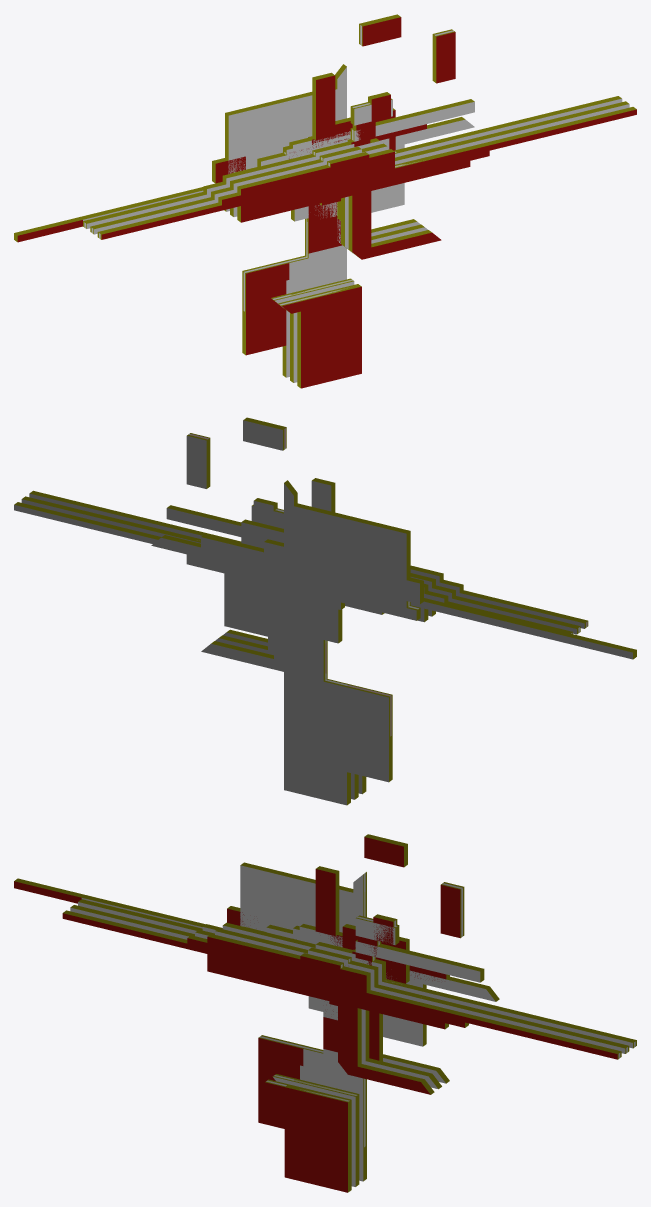
File: idf.obj
3 renders of one model, top to bottom at view 1: azimuth 30°, elevation 25°; view 2: azimuth 150°, elevation 25°; view 3: azimuth 330°, elevation 25°, orthographic. The views are drawn at different scales.
Bounding box in the file's own units: 286 × 155 × 21.34.
